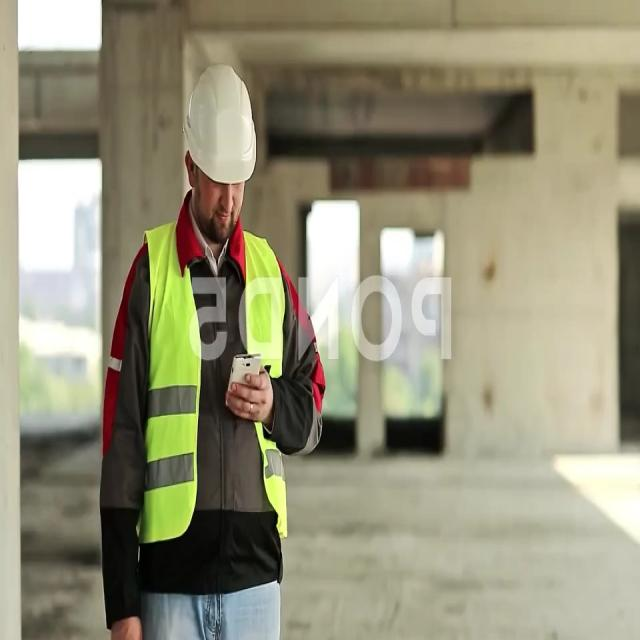phone: (225, 354, 262, 409)
